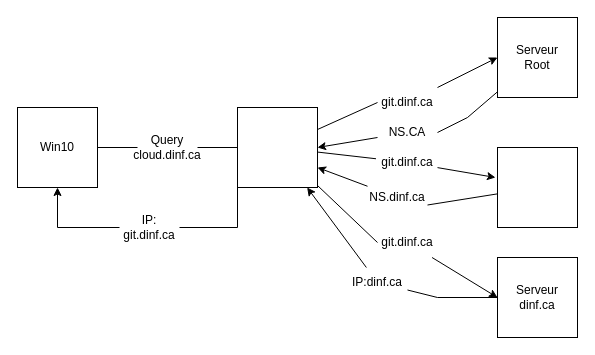
Some shapes in this 595 by 355 pixel diagram are drawn without their labels. Here are the shapes that lost their labels. From the top down, the centre of each, then its label:
At pixel 277 147: "DNS".
At pixel 537 187: "Serveur .CA".
